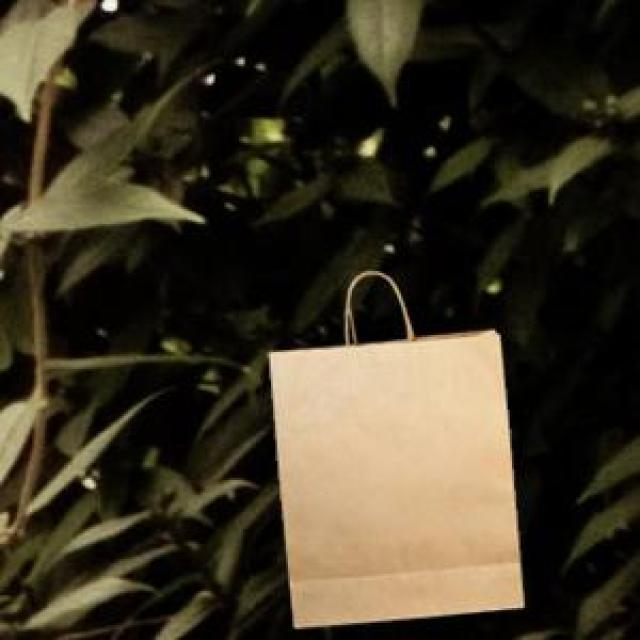paper: (265, 309, 518, 623)
